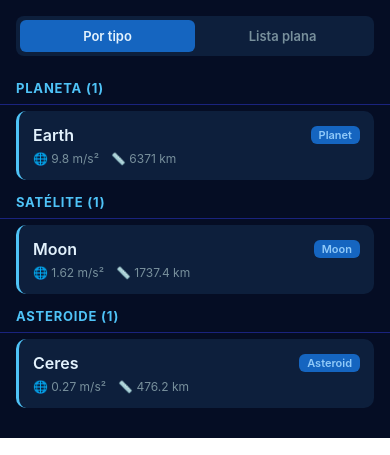
Test: SolarCatalogScreen › debería mostrar la FlatList al pulsar el toggle "Lista plana"
The width and height of the screenshot is (390, 455).
Click the button with test id "toggle-flat": (282, 36) [195,20,370,52]
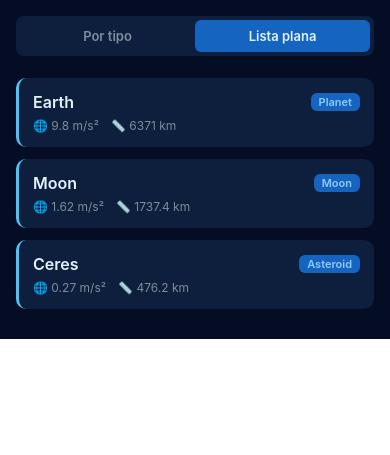
Expected: the text "Earth" is shown, [33,92,74,112]
Now the element with test id "flat-list" is shown
